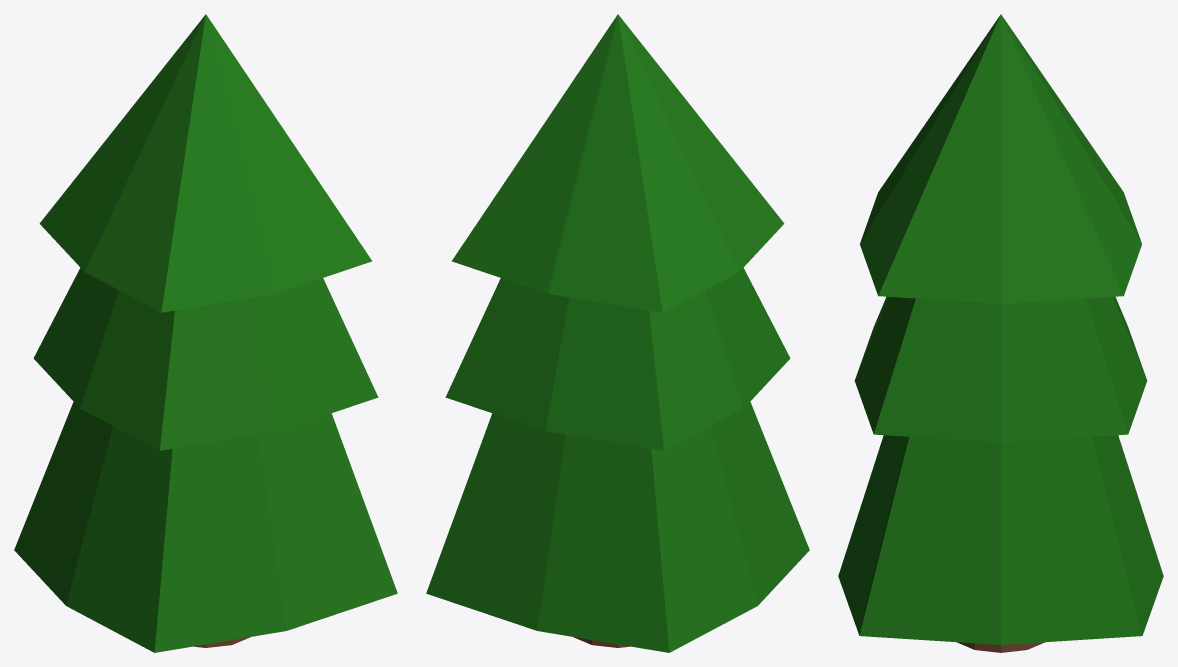
The model's file is Tree_23_summer_vc.fbx.
The picture shows the model from 3 angles, left to right: view 1: azimuth 30°, elevation 25°; view 2: azimuth 150°, elevation 25°; view 3: azimuth 270°, elevation 25°; orthographic projection.
Visible parts, largest first — view 1: Tree_23_summer_vc; view 2: Tree_23_summer_vc; view 3: Tree_23_summer_vc.
Part boxes in pixels (x1=…): Tree_23_summer_vc: x1=14, y1=14, x2=397, y2=652; Tree_23_summer_vc: x1=426, y1=14, x2=809, y2=652; Tree_23_summer_vc: x1=838, y1=14, x2=1163, y2=652.
Size of the model in its own units: 2.34 by 4.9 by 2.34.
